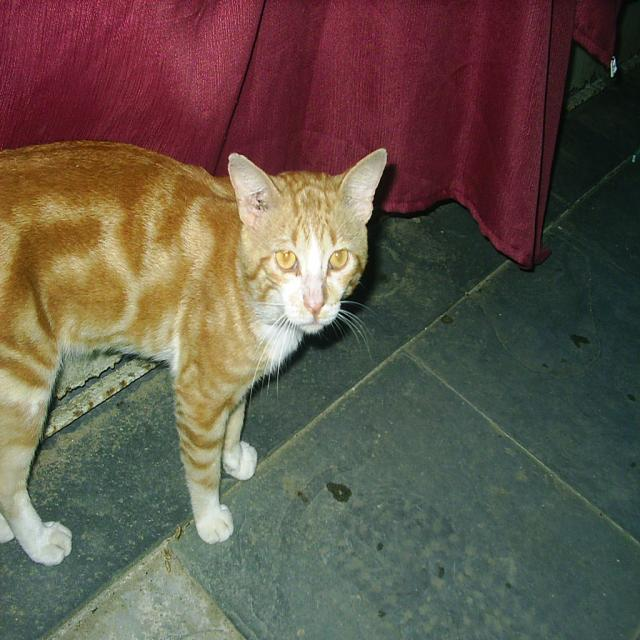left eye: (327, 246, 350, 272)
